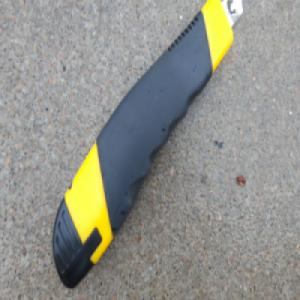Cutter: (51, 0, 247, 290)
